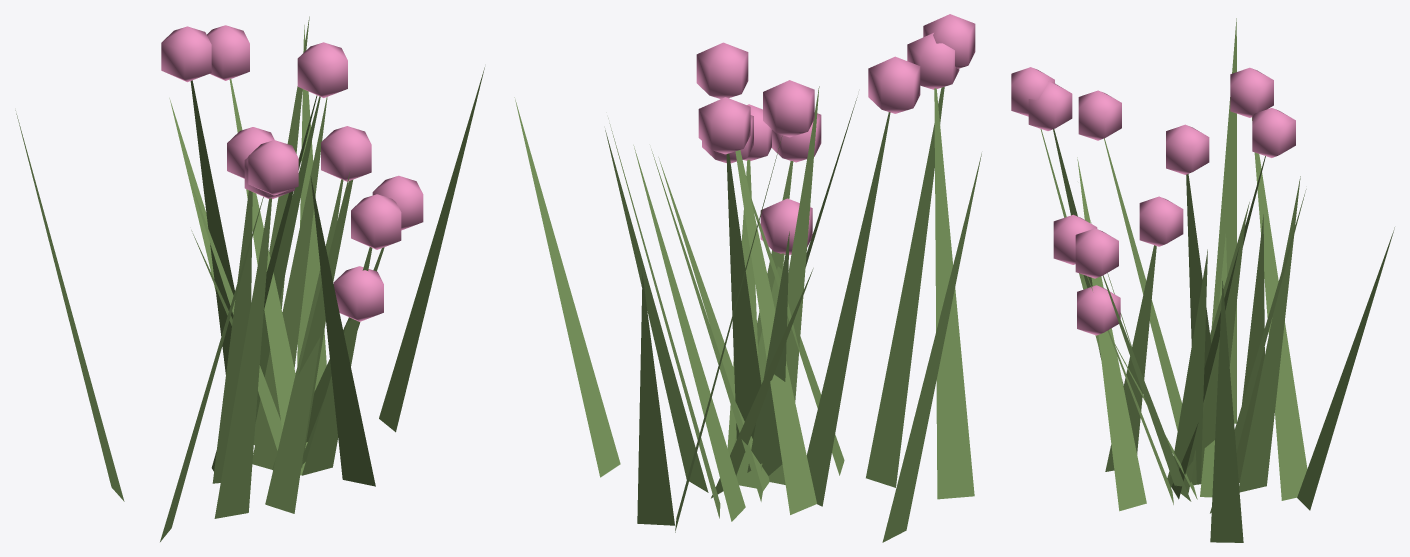
Rendered from SM_FlowersPink.fbx.
The picture shows the model from 3 angles, left to right: view 1: azimuth 30°, elevation 25°; view 2: azimuth 150°, elevation 25°; view 3: azimuth 270°, elevation 25°; orthographic projection. The views are drawn at different scales.
Parts seen in each view (by area): view 1: SM_FlowersPink; view 2: SM_FlowersPink; view 3: SM_FlowersPink.
Part boxes in pixels (bbox=[...]): SM_FlowersPink: bbox=[15, 16, 484, 541]; SM_FlowersPink: bbox=[514, 14, 981, 542]; SM_FlowersPink: bbox=[1011, 18, 1394, 542].
Size of the model in its own units: 86.83 by 77.91 by 69.1.
